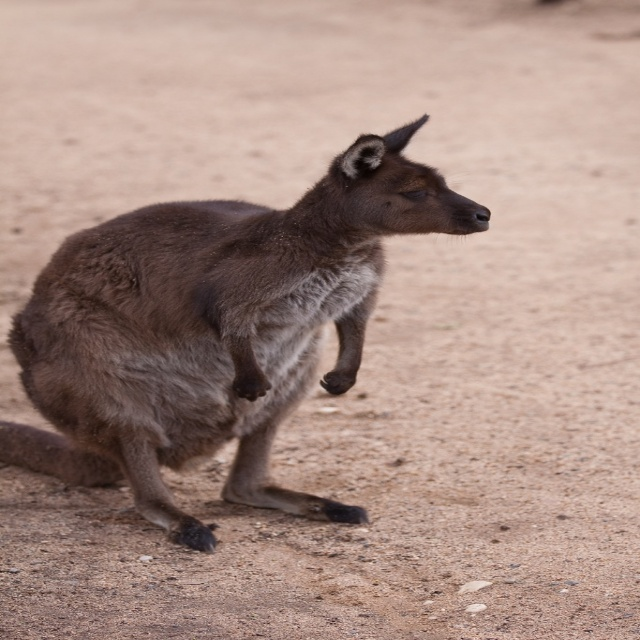Kangaroo: (0, 111, 491, 552)
